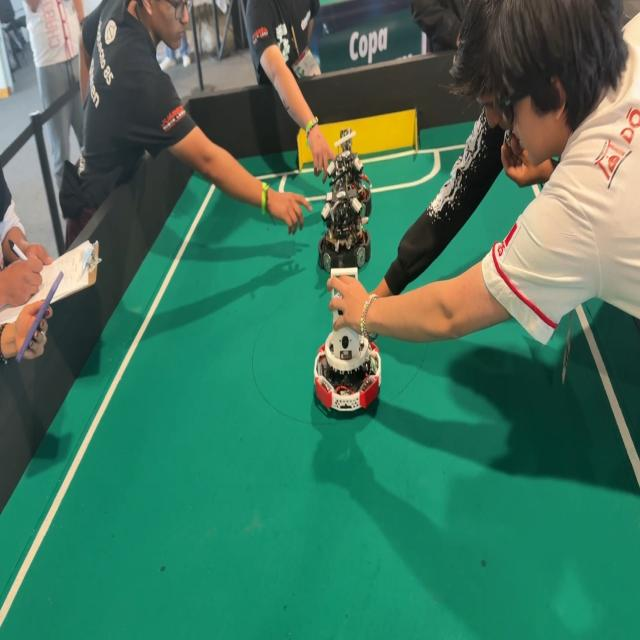Robot: (306, 260, 391, 425), (309, 185, 378, 275), (318, 121, 383, 211)
